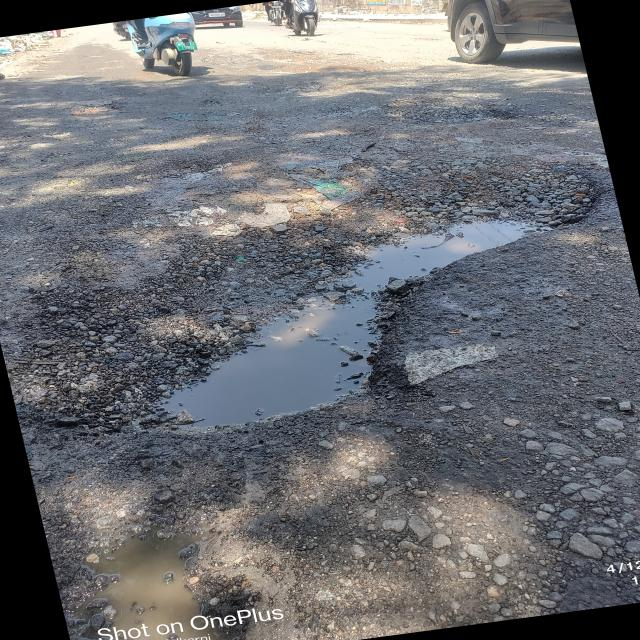potholes: (95, 212, 595, 432)
